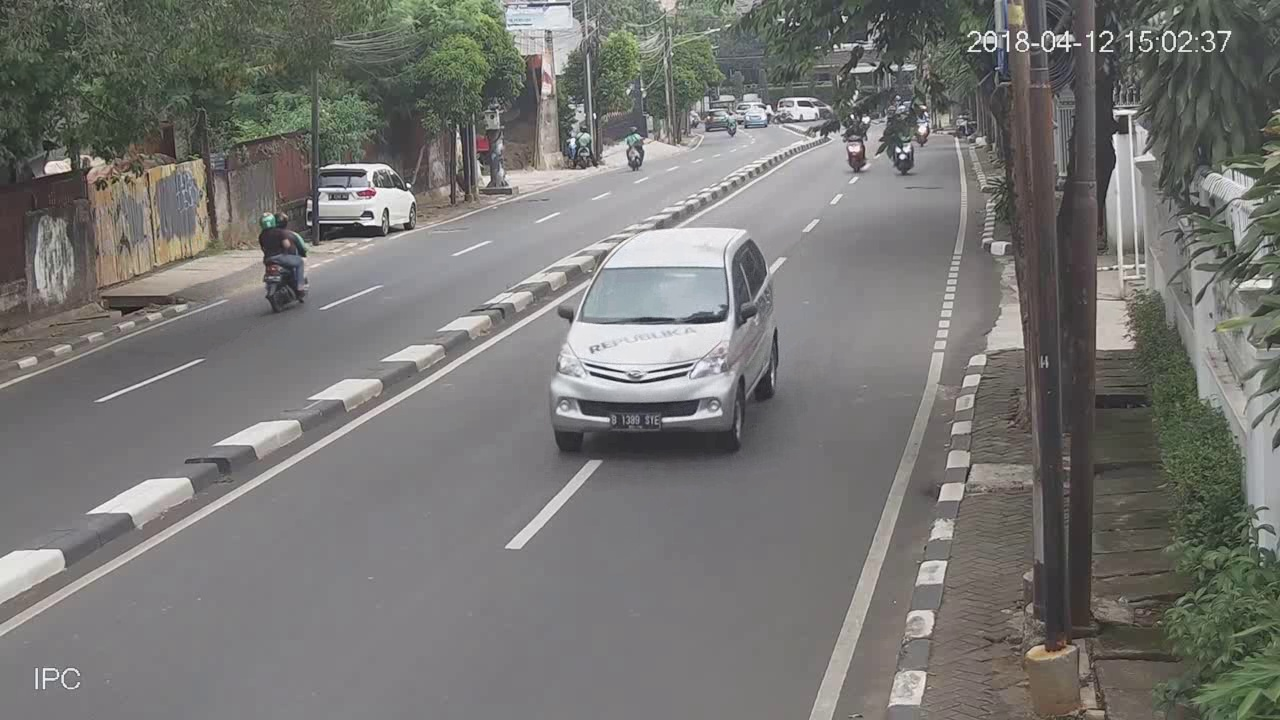car: (548, 226, 781, 453), (304, 162, 419, 236)
motorcycle: (257, 207, 312, 311), (622, 123, 646, 171)
